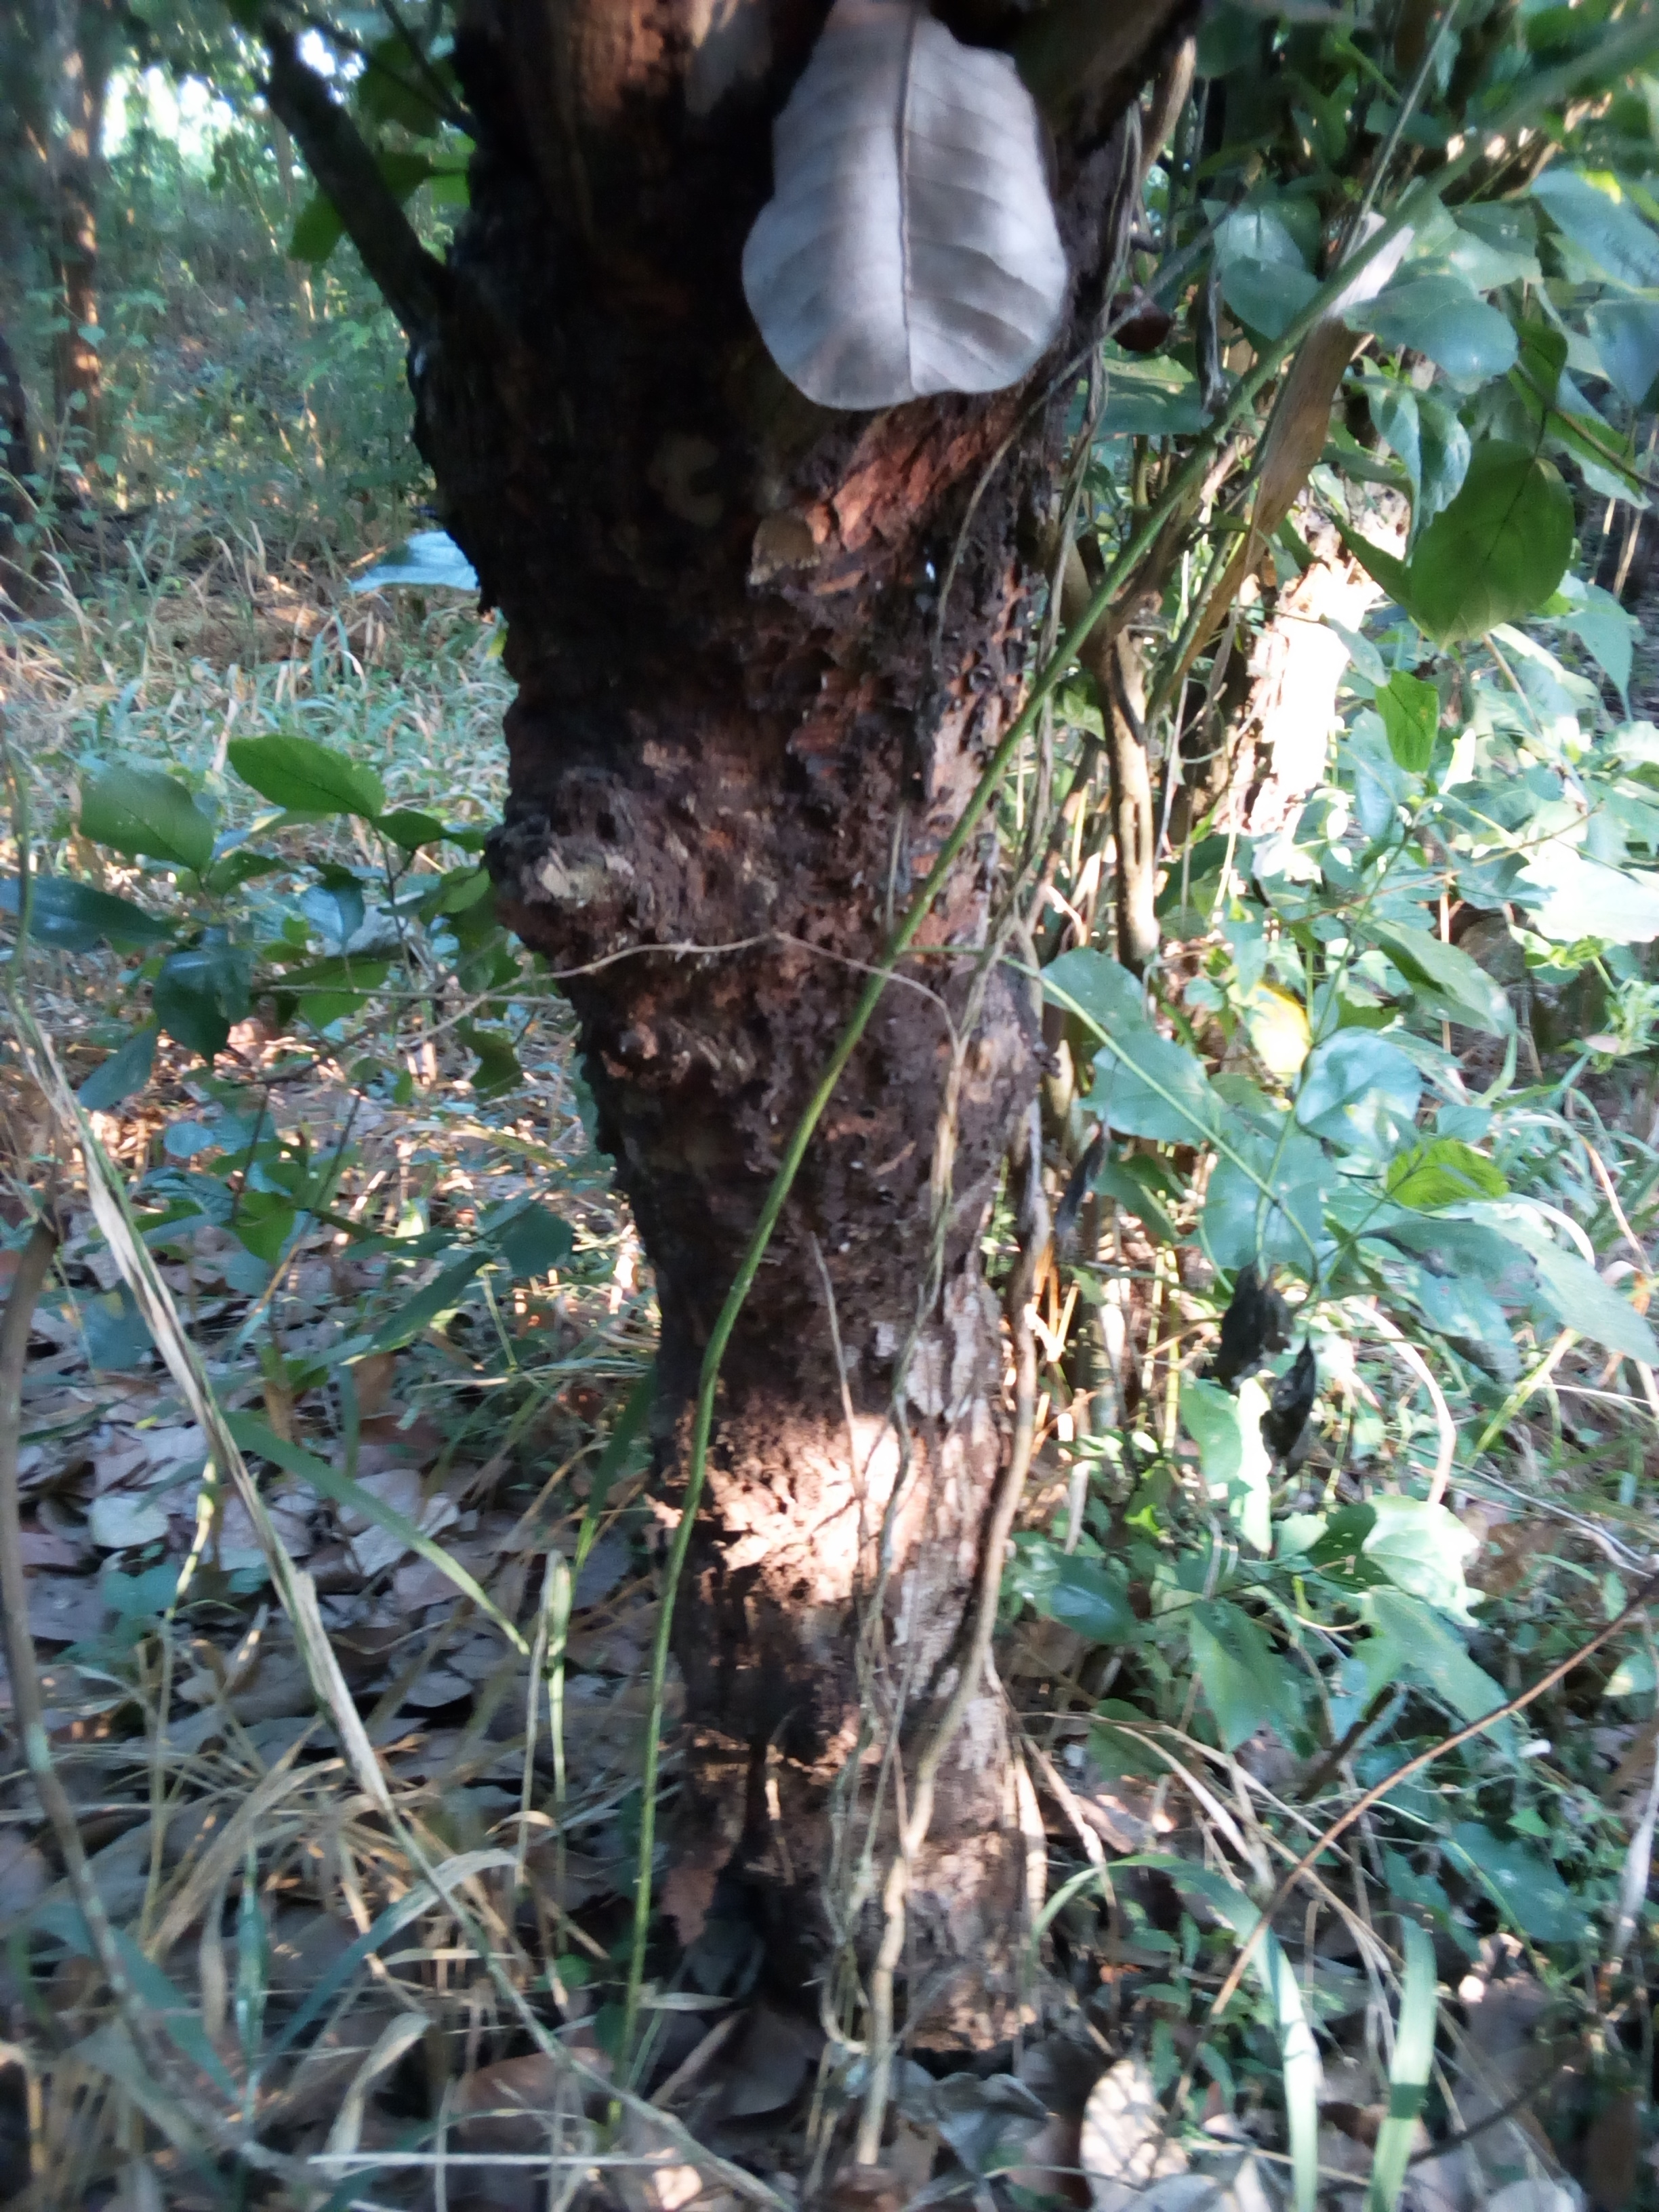Termites: (586, 415, 1037, 1885)
